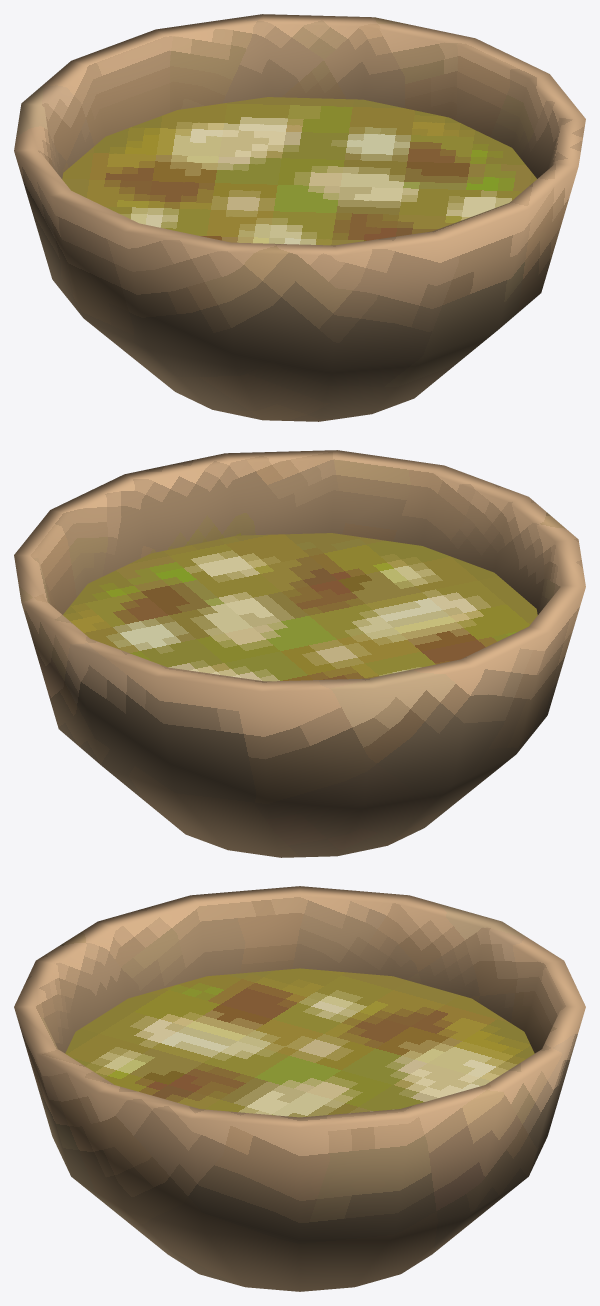
File: TurnipStew.fbx
3 renders of one model, top to bottom at view 1: azimuth 30°, elevation 25°; view 2: azimuth 150°, elevation 25°; view 3: azimuth 270°, elevation 25°, orthographic.
Visible parts, largest first — view 1: attach; view 2: attach; view 3: attach.
Part boxes in pixels (x1=…): attach: x1=14, y1=14, x2=585, y2=421; attach: x1=14, y1=450, x2=585, y2=857; attach: x1=14, y1=886, x2=585, y2=1291.
Size of the model in its own units: 0.4726 by 0.2049 by 0.4726.
1 material, 1 textured.
